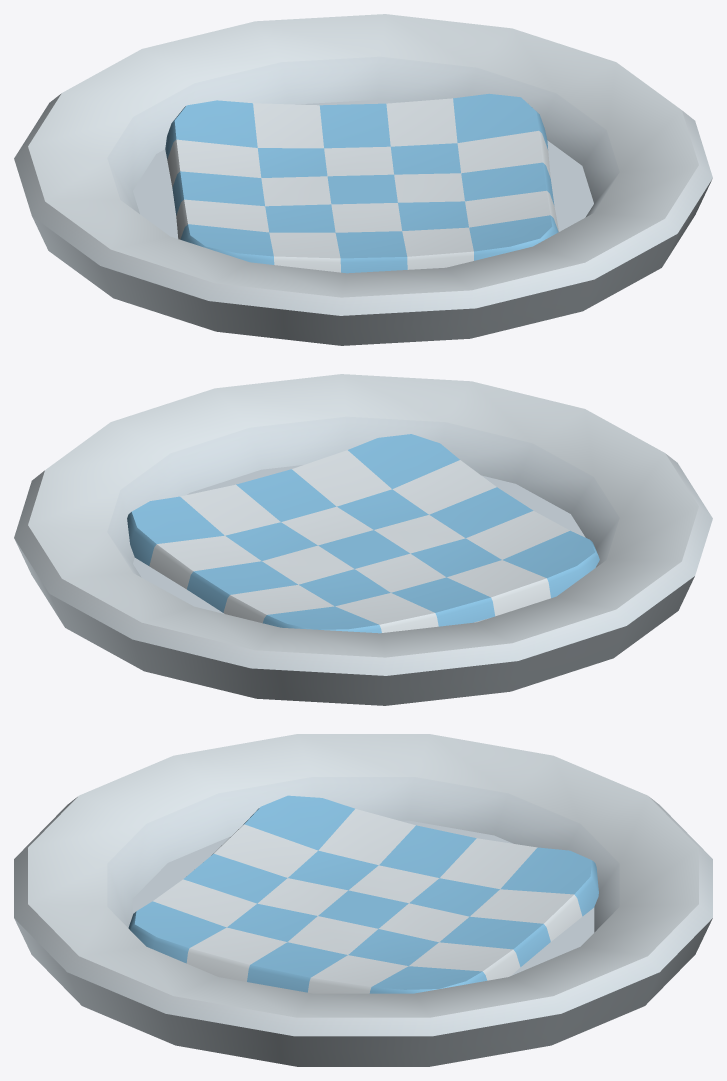
File: plate.glb
3 renders of one model, top to bottom at view 1: azimuth 30°, elevation 25°; view 2: azimuth 150°, elevation 25°; view 3: azimuth 270°, elevation 25°, orthographic.
Parts seen in each view (by area): view 1: plate; view 2: plate; view 3: plate.
Boxes of the visible parts, x1,y1,x2,y2 form: plate: (14,14,712,345); plate: (14,374,712,705); plate: (14,734,712,1066).
Size of the model in its own units: 0.75 by 0.1 by 0.75.
1 material, 1 textured.
